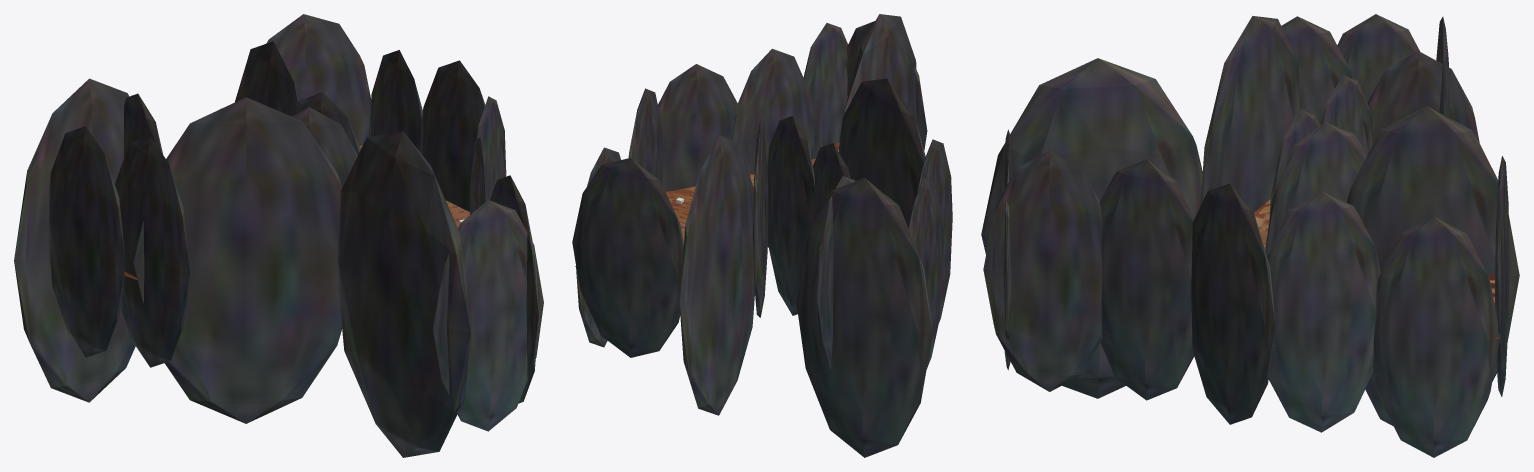
The model's file is fse--dan.gltf.
3 renders of one model, left to right at view 1: azimuth 30°, elevation 25°; view 2: azimuth 150°, elevation 25°; view 3: azimuth 270°, elevation 25°, orthographic. The views are drawn at different scales.
Visible parts, largest first — view 1: Icosphere.006, Icosphere.007, Icosphere.013, Icosphere.011, Icosphere.004, Icosphere.016, Icosphere, Icosphere.009, Icosphere.005, Icosphere.012, Icosphere.010, Icosphere.001 (+4 smaller); view 2: Icosphere.013, Icosphere, Icosphere.012, Icosphere.006, Icosphere.008, Icosphere.001, Icosphere.003, Icosphere.010, Icosphere.007, Icosphere.004, Icosphere.002, Icosphere.015 (+7 smaller); view 3: Icosphere.005, Icosphere.010, Icosphere.009, Icosphere.003, Icosphere.007, Icosphere.012, Icosphere.008, Icosphere.006, Icosphere.002, Icosphere.015, Icosphere.016, Icosphere.004 (+5 smaller).
Boxes of the visible parts, box(x1,y1,x2,y2) form: Icosphere.006: box(133, 97, 342, 423); Icosphere.007: box(337, 131, 470, 457); Icosphere.013: box(14, 78, 135, 402); Icosphere.011: box(432, 200, 543, 431); Icosphere.004: box(49, 126, 125, 357); Icosphere.016: box(115, 136, 189, 367); Icosphere: box(266, 14, 371, 145); Icosphere.009: box(419, 60, 485, 211); Icosphere.005: box(369, 50, 422, 150); Icosphere.012: box(234, 41, 298, 115); Icosphere.010: box(490, 175, 538, 403); Icosphere.001: box(292, 107, 357, 187); Icosphere.013: box(796, 178, 932, 457); Icosphere: box(572, 158, 688, 357); Icosphere.012: box(679, 135, 754, 415); Icosphere.006: box(838, 78, 925, 228); Icosphere.008: box(658, 64, 749, 191); Icosphere.001: box(767, 116, 815, 315); Icosphere.003: box(732, 48, 815, 247); Icosphere.010: box(803, 23, 847, 159); Icosphere.007: box(844, 14, 916, 122); Icosphere.004: box(908, 178, 943, 368); Icosphere.002: box(752, 118, 768, 317); Icosphere.015: box(817, 176, 854, 370); Icosphere.005: box(1373, 216, 1500, 457); Icosphere.010: box(983, 150, 1102, 391); Icosphere.009: box(1267, 191, 1380, 432); Icosphere.003: box(1099, 159, 1194, 400); Icosphere.007: box(981, 58, 1202, 398); Icosphere.012: box(1347, 106, 1519, 426); Icosphere.008: box(1191, 183, 1275, 424); Icosphere.006: box(1200, 16, 1299, 212); Icosphere.002: box(1265, 122, 1366, 256); Icosphere.015: box(1367, 51, 1479, 142); Icosphere.016: box(1281, 16, 1352, 125); Icosphere.004: box(1337, 14, 1420, 102).
Bounding box in the file's own units: 143 × 117 × 154.
Materials: 1 (1 with a texture image).
